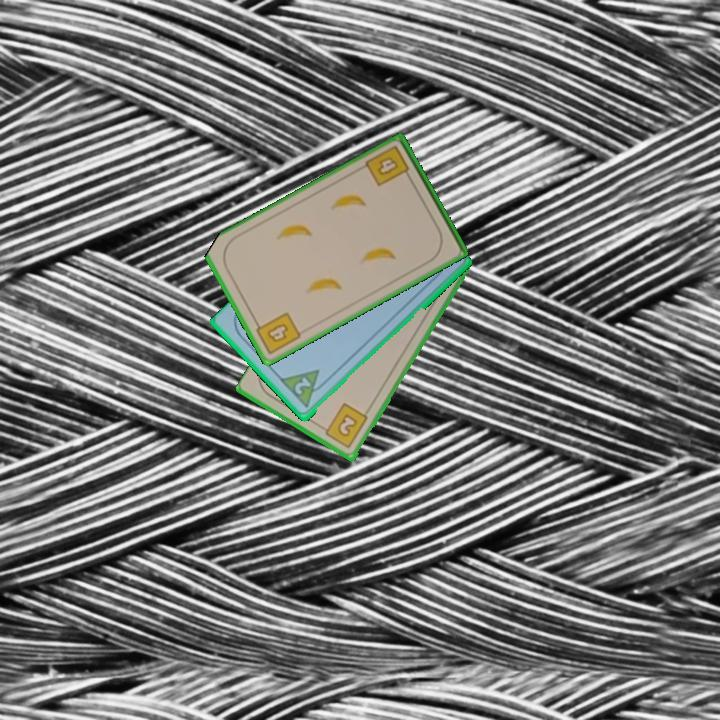2b: (317, 400, 371, 452)
2p: (291, 374, 314, 398)
4b: (251, 309, 304, 358), (362, 142, 414, 190)
